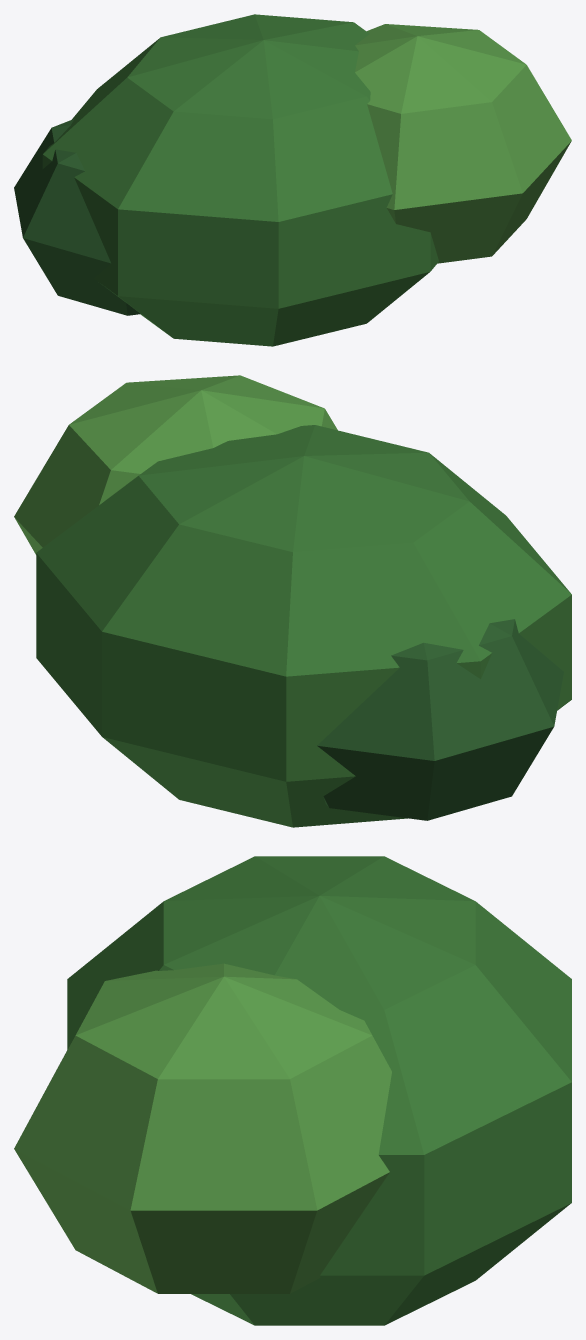
Rendered from bush.glb.
The picture shows the model from 3 angles, top to bottom: view 1: azimuth 30°, elevation 25°; view 2: azimuth 150°, elevation 25°; view 3: azimuth 270°, elevation 25°; orthographic projection. The views are drawn at different scales.
Parts seen in each view (by area): view 1: bush; view 2: bush; view 3: bush.
Boxes of the visible parts, left/top/right/bottom form: bush: left=14, top=14, right=571, bottom=346; bush: left=14, top=375, right=571, bottom=827; bush: left=14, top=856, right=571, bottom=1325.
Size of the model in its own units: 1.56 by 0.9 by 1.17.
